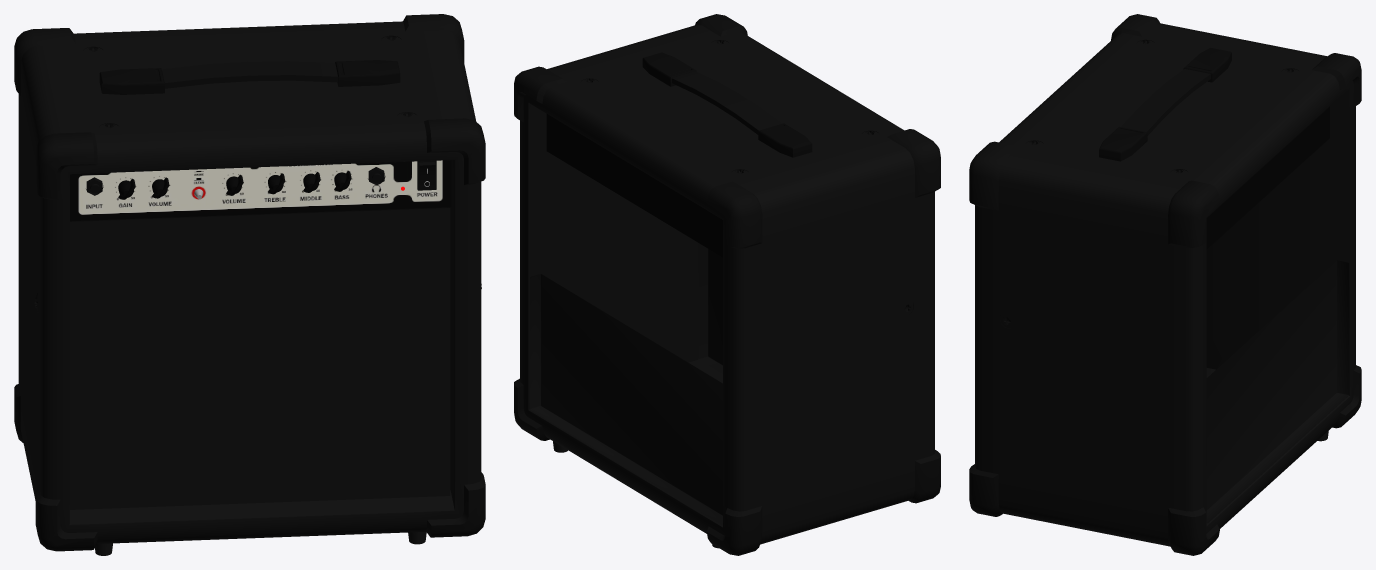
The model's file is robot.glb.
The picture shows the model from 3 angles, left to right: view 1: azimuth 30°, elevation 25°; view 2: azimuth 150°, elevation 25°; view 3: azimuth 270°, elevation 25°; orthographic projection. The views are drawn at different scales.
Parts seen in each view (by area): view 1: Object_9.002, Object_10.002, Object_11, Object_2.002, Object_7.002, Object_4.002; view 2: Object_10.002, Object_11, Object_2.002, Object_7.002; view 3: Object_10.002, Object_11, Object_2.002, Object_7.002.
Boxes of the visible parts, bbox=[...] form: Object_9.002: bbox=[70, 208, 450, 509]; Object_10.002: bbox=[18, 21, 481, 543]; Object_11: bbox=[14, 14, 485, 551]; Object_2.002: bbox=[70, 160, 451, 221]; Object_7.002: bbox=[35, 35, 416, 313]; Object_4.002: bbox=[118, 170, 351, 199]; Object_10.002: bbox=[520, 24, 934, 544]; Object_11: bbox=[514, 14, 940, 555]; Object_2.002: bbox=[546, 114, 722, 257]; Object_7.002: bbox=[581, 40, 913, 316]; Object_10.002: bbox=[975, 23, 1355, 546]; Object_11: bbox=[969, 14, 1361, 555]; Object_2.002: bbox=[1206, 106, 1329, 249]; Object_7.002: bbox=[1000, 39, 1298, 328].
Bounding box in the file's own units: 0.9822 × 0.8853 × 0.8393.
Materials: 10 (1 with a texture image).
